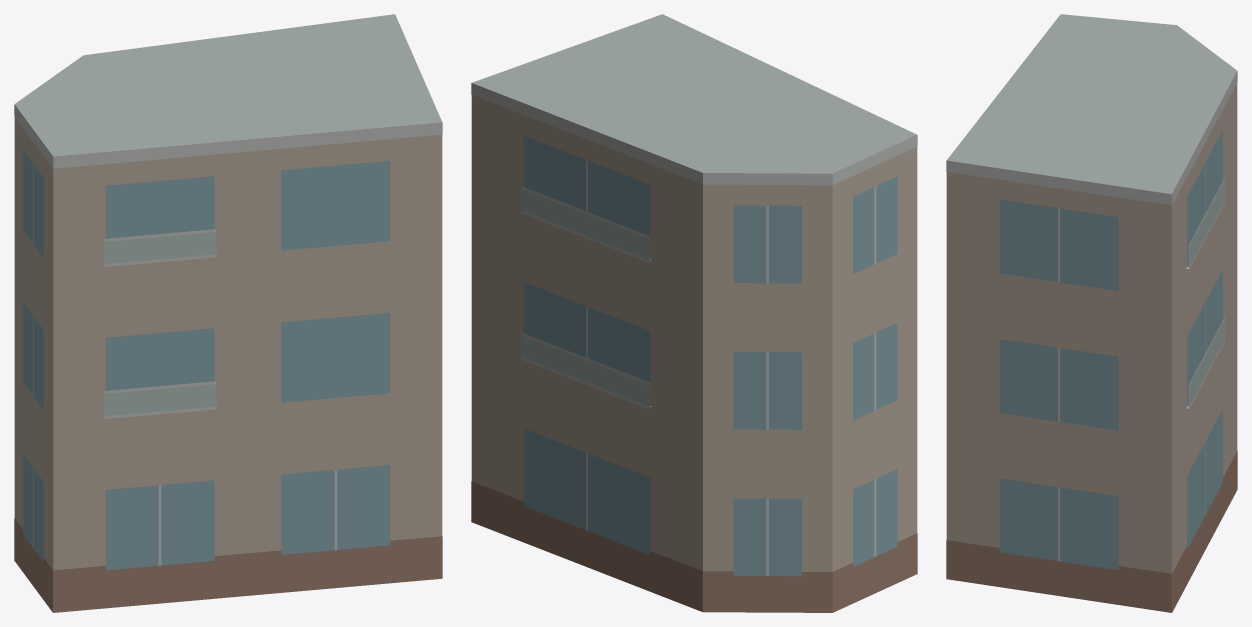
Rendered from survey-upis-32676480.glb.
The picture shows the model from 3 angles, left to right: view 1: azimuth 30°, elevation 25°; view 2: azimuth 150°, elevation 25°; view 3: azimuth 270°, elevation 25°; orthographic projection. The views are drawn at different scales.
Visible parts, largest first — view 1: survey-upis-32676480.tmp; view 2: survey-upis-32676480.tmp; view 3: survey-upis-32676480.tmp.
Part boxes in pixels (x1,y1,x2,y2): survey-upis-32676480.tmp: (14,14,442,612); survey-upis-32676480.tmp: (471,14,917,612); survey-upis-32676480.tmp: (946,14,1237,612).
Size of the model in its own units: 8.46 by 9.15 by 5.78.
